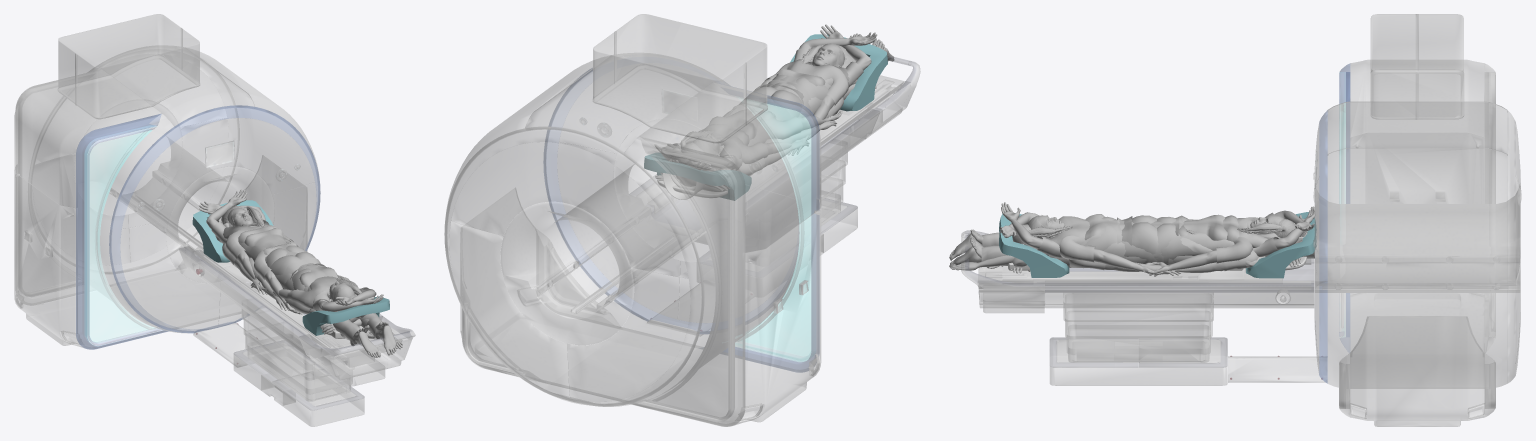
The model's file is Erica.glb.
3 views of the same model, side by side, from view 1: azimuth 30°, elevation 25°; view 2: azimuth 150°, elevation 25°; view 3: azimuth 270°, elevation 25° (orthographic). The views are drawn at different scales.
Parts seen in each view (by area): view 1: SM_MRI_base, Table, SM_MRI_bed_inOut.001, SM_head_arm_rest2.001, SM_head_arm_rest2, F2_body_geo1, F2_body_geo8, F2_body_geo1.001, F2_pants_geo8, F2_scrubShirt_geo1, F2_scrubShirt_geo1.001, F2_body_geo3 (+4 smaller); view 2: SM_MRI_base, Table, SM_head_arm_rest2, F2_body_geo1.001, SM_head_arm_rest2.001, F2_body_geo1, F2_scrubShirt_geo1.001, F2_scrubShirt_geo1, SM_MRI_bed_inOut.001, F2_scrubShirt_geo8, F2_scrubShirt_geo4, F2_pants_geo4 (+3 smaller); view 3: SM_MRI_base, Table, SM_MRI_bed_inOut.001, SM_head_arm_rest2, SM_head_arm_rest2.001, F2_body_geo1.001, F2_scrubShirt_geo1, F2_pants_geo8, F2_body_geo1, F2_scrubShirt_geo1.001, F2_scrubShirt_geo6, F2_scrubShirt_geo10 (+7 smaller).
Boxes of the visible parts, bbox=[...] form: SM_MRI_base: bbox=[14, 14, 320, 349]; Table: bbox=[179, 246, 415, 426]; SM_MRI_bed_inOut.001: bbox=[203, 255, 381, 357]; SM_head_arm_rest2.001: bbox=[302, 296, 389, 335]; SM_head_arm_rest2: bbox=[192, 200, 273, 262]; F2_body_geo1: bbox=[199, 189, 365, 319]; F2_body_geo8: bbox=[264, 270, 396, 357]; F2_body_geo1.001: bbox=[220, 218, 383, 311]; F2_pants_geo8: bbox=[292, 265, 382, 345]; F2_scrubShirt_geo1: bbox=[211, 213, 286, 248]; F2_scrubShirt_geo1.001: bbox=[298, 263, 368, 310]; F2_body_geo3: bbox=[257, 275, 388, 346]; SM_MRI_base: bbox=[444, 14, 821, 426]; Table: bbox=[629, 56, 920, 336]; SM_head_arm_rest2: bbox=[644, 153, 751, 200]; F2_body_geo1.001: bbox=[672, 24, 877, 162]; SM_head_arm_rest2.001: bbox=[790, 34, 887, 111]; F2_body_geo1: bbox=[655, 134, 734, 170]; F2_scrubShirt_geo1.001: bbox=[771, 48, 863, 96]; F2_scrubShirt_geo1: bbox=[673, 109, 760, 170]; SM_MRI_bed_inOut.001: bbox=[662, 87, 890, 201]; F2_scrubShirt_geo8: bbox=[723, 79, 810, 139]; F2_scrubShirt_geo4: bbox=[767, 59, 847, 104]; F2_pants_geo4: bbox=[719, 86, 800, 154]; SM_MRI_base: bbox=[1313, 14, 1521, 426]; Table: bbox=[961, 230, 1326, 385]; SM_MRI_bed_inOut.001: bbox=[1002, 266, 1282, 284]; SM_head_arm_rest2: bbox=[1246, 212, 1316, 278]; SM_head_arm_rest2.001: bbox=[999, 214, 1069, 277]; F2_body_geo1.001: bbox=[999, 202, 1307, 249]; F2_scrubShirt_geo1: bbox=[1183, 212, 1278, 256]; F2_pants_geo8: bbox=[981, 216, 1117, 267]; F2_body_geo1: bbox=[1250, 206, 1315, 249]; F2_scrubShirt_geo1.001: bbox=[1034, 214, 1133, 257]; F2_scrubShirt_geo6: bbox=[1059, 216, 1131, 262]; F2_scrubShirt_geo10: bbox=[1178, 217, 1253, 263].
Bounding box in the file's own units: 1.94 × 2.02 × 3.45.
Materials: 6 (3 with a texture image).
